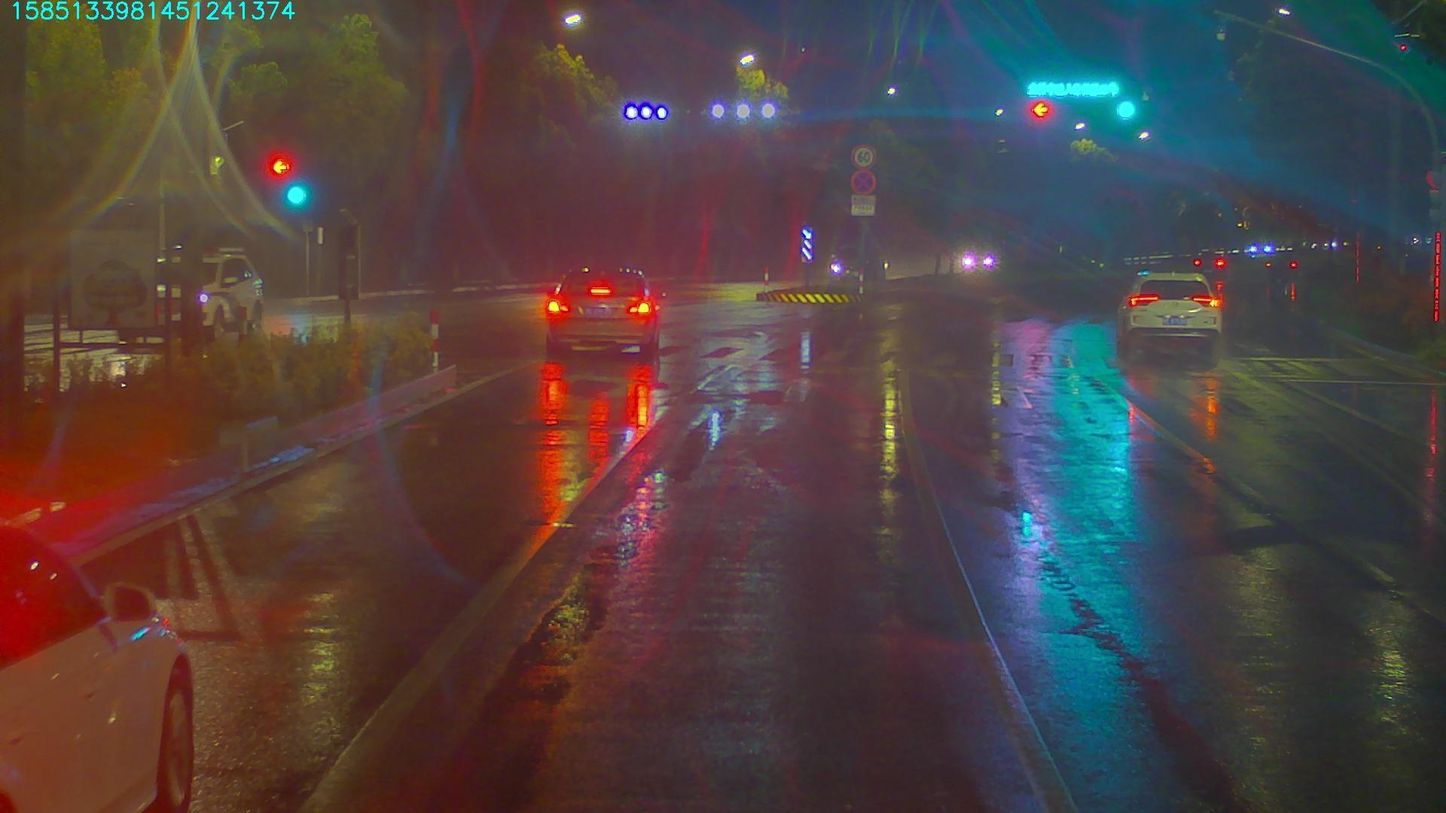green: (1115, 102, 1141, 120)
red: (1030, 104, 1052, 118)
wait_on: (1020, 75, 1121, 102)
